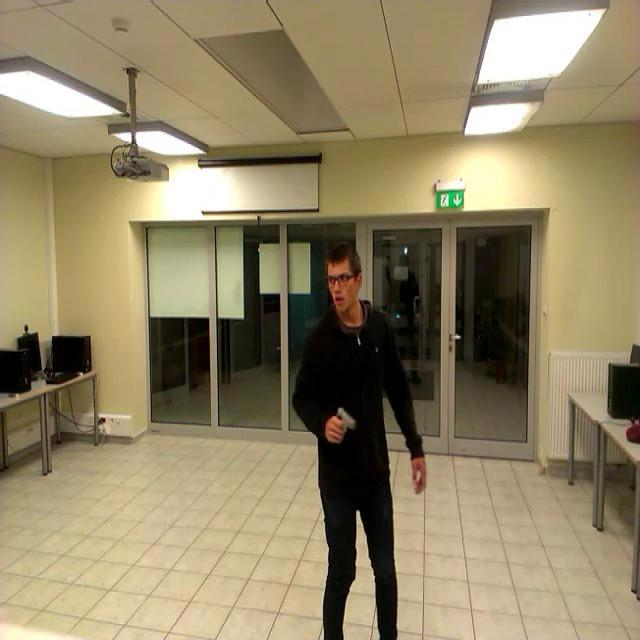weapon: (336, 408, 354, 444)
